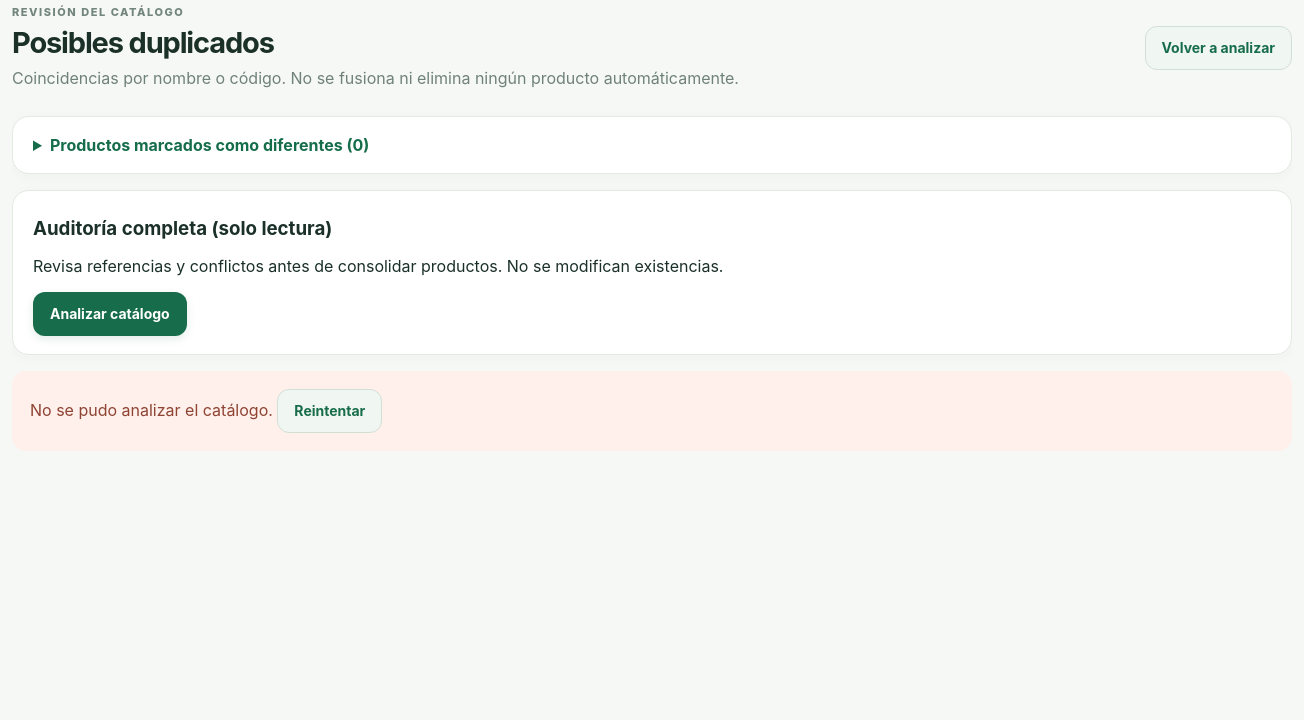
loads the complete export audit only on request and recovers failed reads
expect the message "No se pudo analizar el catálogo. Reintentar" is shown: met, box [12,371,1292,451]
Click the button "Volver a analizar" at (1218,48), box [1144,26,1292,70]
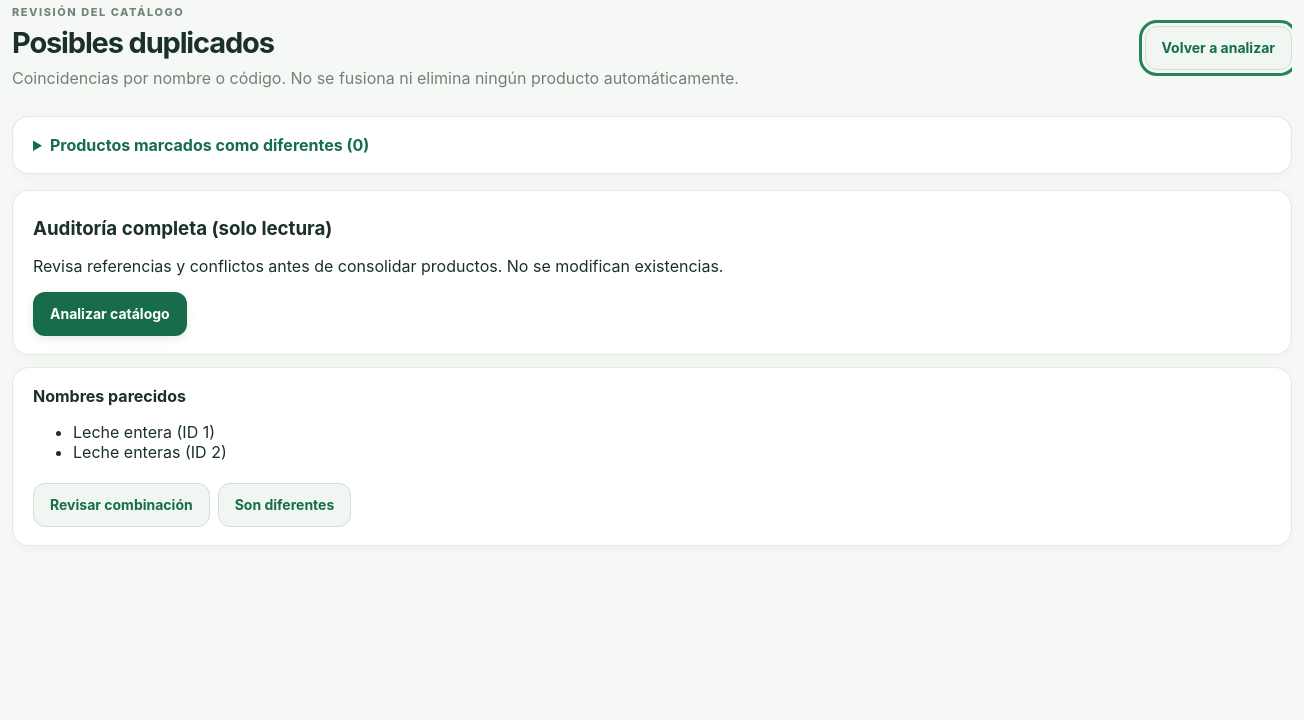
expect the button "Son diferentes" is shown: met, box [218,483,351,527]
Click the button "Analizar catálogo" at (110,314), box [33,292,187,336]
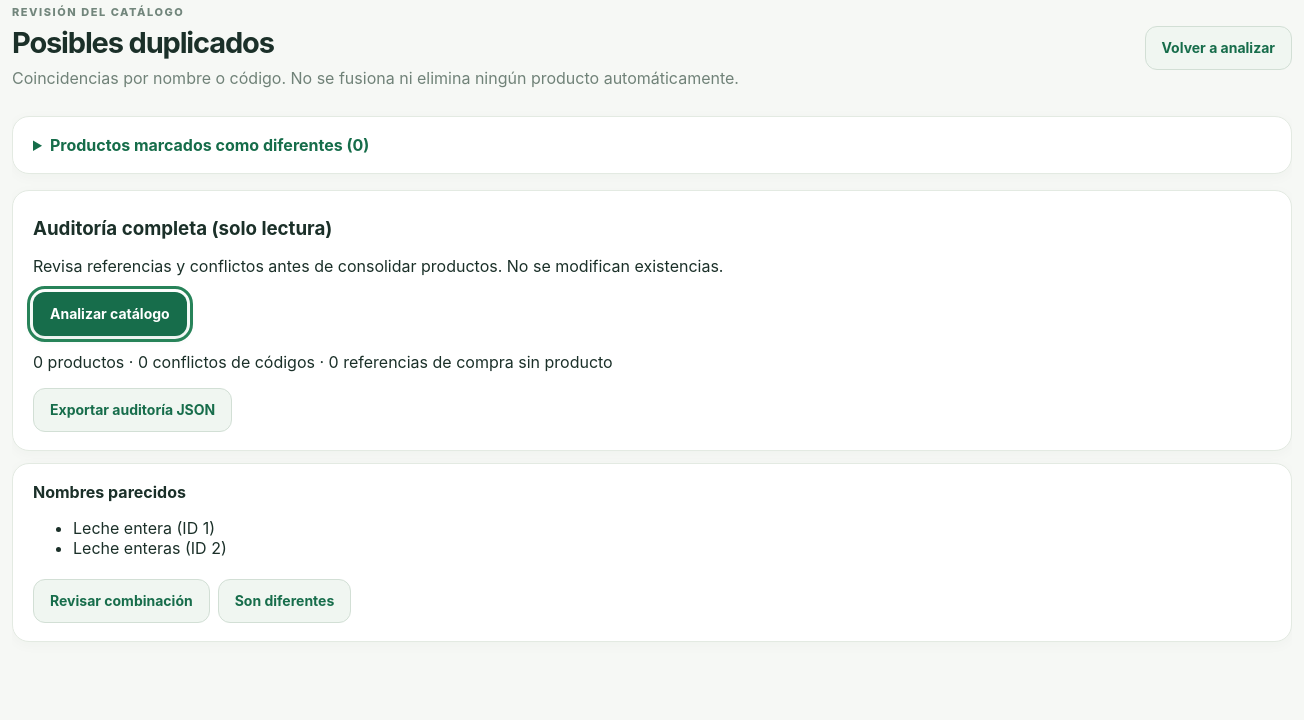
expect the button "Exportar auditoría JSON" is shown: met, box [33,388,232,432]
